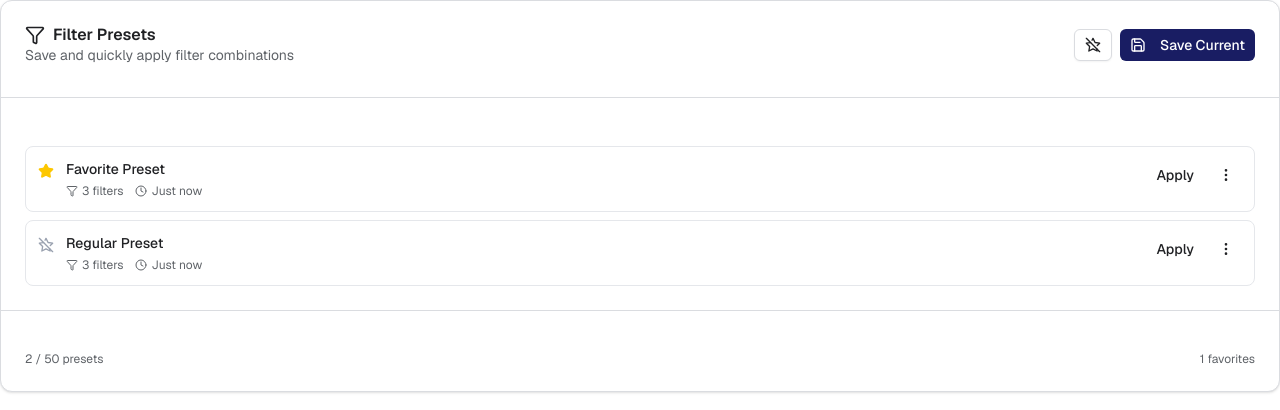
PresetFilter Component › filters by favorites
Expected: the heading "Favorite Preset" is shown, x1=66 y1=159 x2=165 y2=179
Expected: the heading "Regular Preset" is shown, x1=66 y1=233 x2=163 y2=253
What coordinates should you click on to do the following:
click the button without text in the row of "Filter Presets"
I would click on:
 (1093, 45)
Its box is x1=1074 y1=29 x2=1112 y2=61.
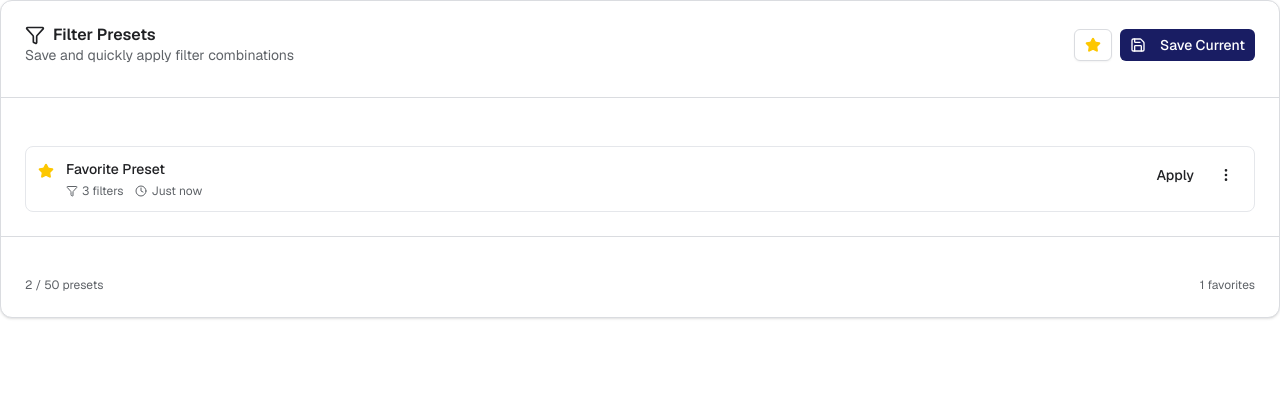
Expected: the heading "Favorite Preset" is shown, x1=66 y1=159 x2=165 y2=179
Expected: the heading "Regular Preset" is gone
